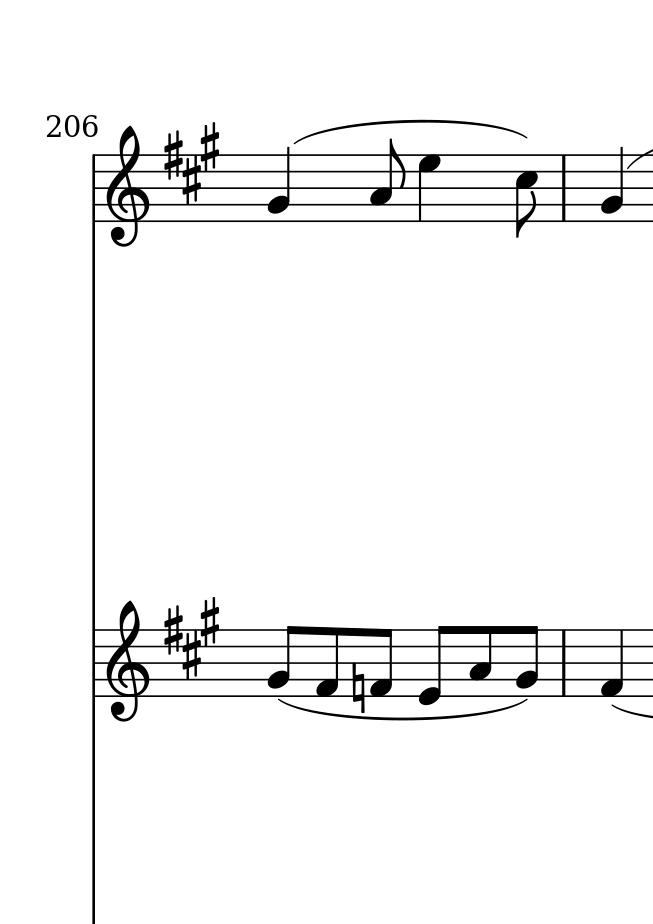0: (63, 113, 81, 141)
2: (43, 114, 63, 140)
4_1: (596, 627, 627, 700)
4_2: (599, 145, 625, 225), (268, 146, 291, 225)
4_7: (417, 150, 443, 224)
6: (81, 111, 98, 141)
8_0: (417, 623, 453, 708)
8_1: (314, 625, 342, 700), (369, 626, 396, 700)
8_2: (265, 624, 301, 698), (516, 624, 541, 698)
8_3: (368, 138, 406, 223), (468, 625, 494, 699)
8_5: (513, 153, 539, 239)
A_S: (163, 597, 220, 681), (164, 123, 221, 206)
Gclef: (102, 598, 155, 728), (104, 125, 153, 251)
Natural: (352, 662, 367, 714)
Single_barline: (86, 629, 102, 699), (86, 154, 102, 224), (555, 629, 571, 696), (556, 154, 571, 220)
Slur: (295, 118, 530, 144), (278, 699, 527, 721)
